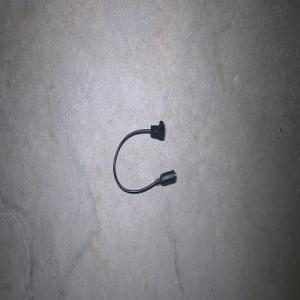Wire: (113, 120, 176, 194)
